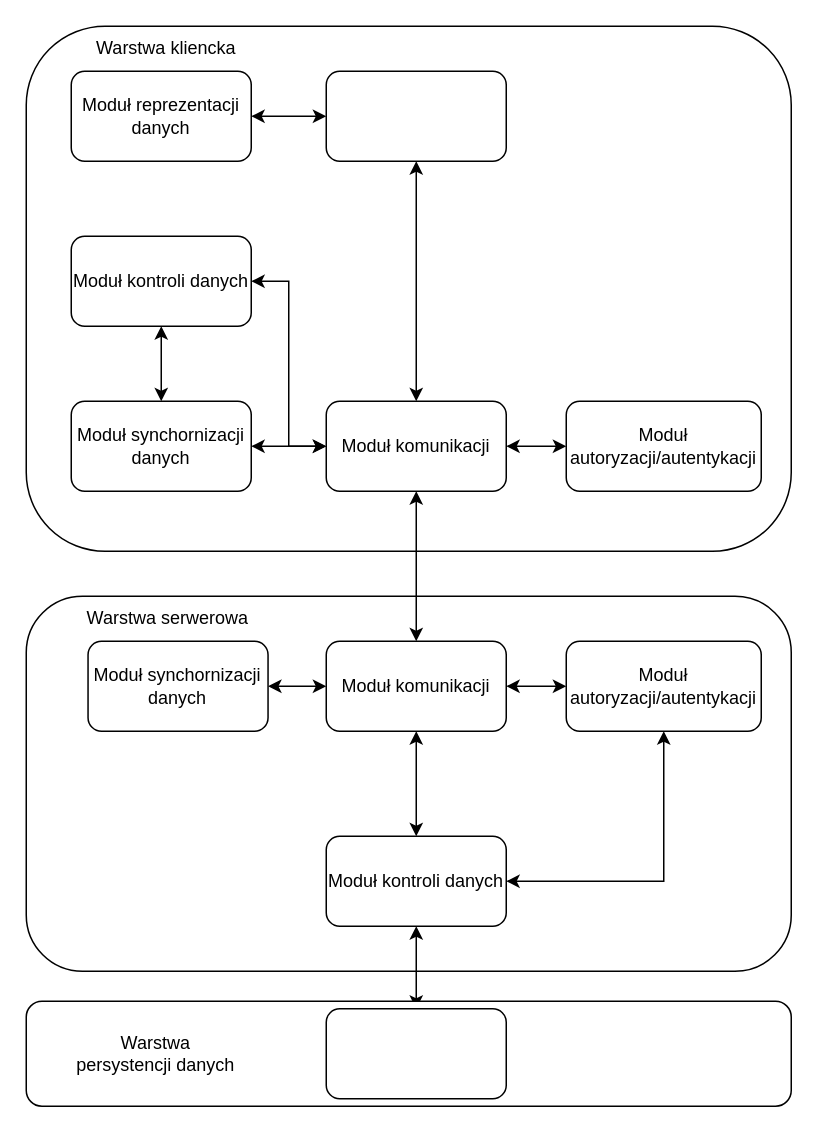
The diagram is 818 pixels wide and 1133 high, and some of its shapes have lost their labels. Here are the shapes that lost their labels. From the top down, the box of each, then its label:
(325, 70, 506, 161): Interfejs użytkownika
(325, 1007, 506, 1099): Baza danych
